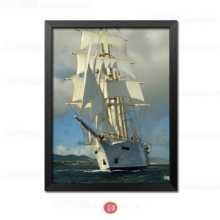fanchuan: (68, 28, 149, 169)
